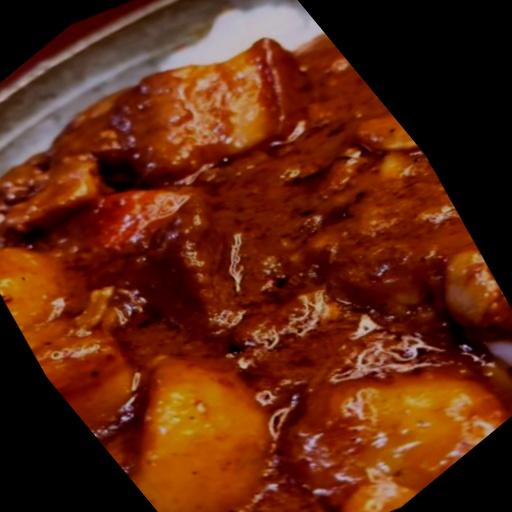pork caldereta: (0, 40, 511, 511)
